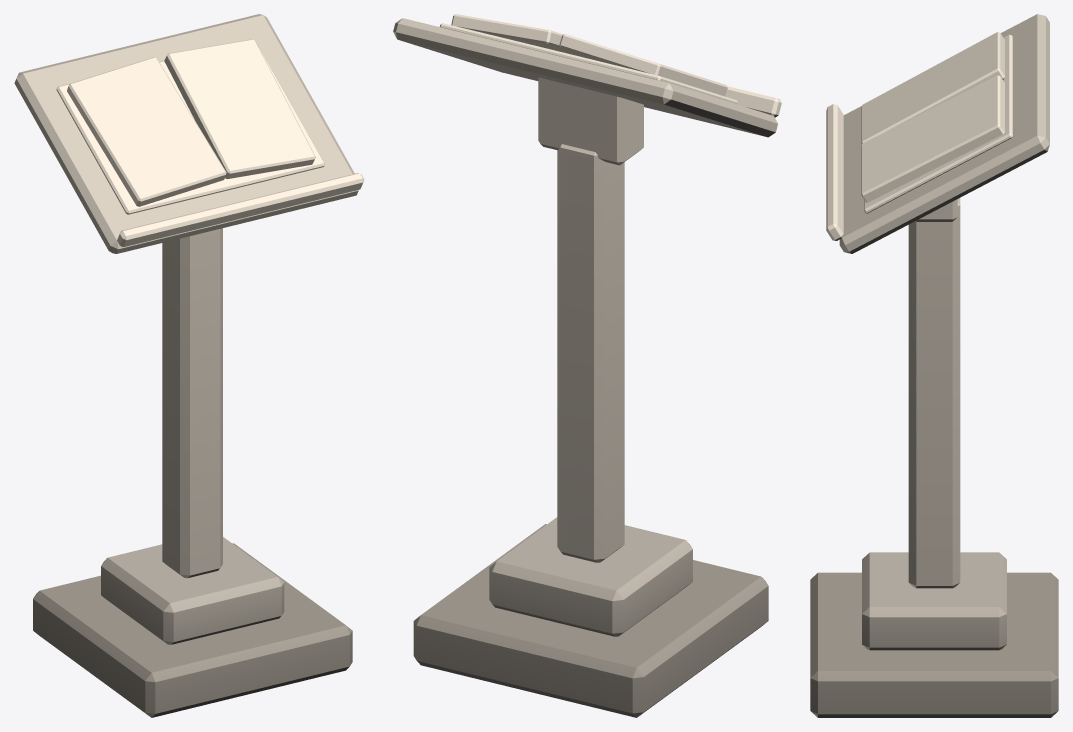
File: SM_VKI_Prop_Lectern.fbx
3 renders of one model, left to right at view 1: azimuth 30°, elevation 25°; view 2: azimuth 150°, elevation 25°; view 3: azimuth 270°, elevation 25°, orthographic. The views are drawn at different scales.
Parts seen in each view (by area): view 1: SM_VKI_Prop_Lectern.001; view 2: SM_VKI_Prop_Lectern.001; view 3: SM_VKI_Prop_Lectern.001.
Boxes of the visible parts, x1=… form: SM_VKI_Prop_Lectern.001: x1=14, y1=14, x2=364, y2=717; SM_VKI_Prop_Lectern.001: x1=393, y1=14, x2=781, y2=717; SM_VKI_Prop_Lectern.001: x1=810, y1=14, x2=1058, y2=717.
Size of the model in its own units: 0.58 by 1.27 by 0.48.
